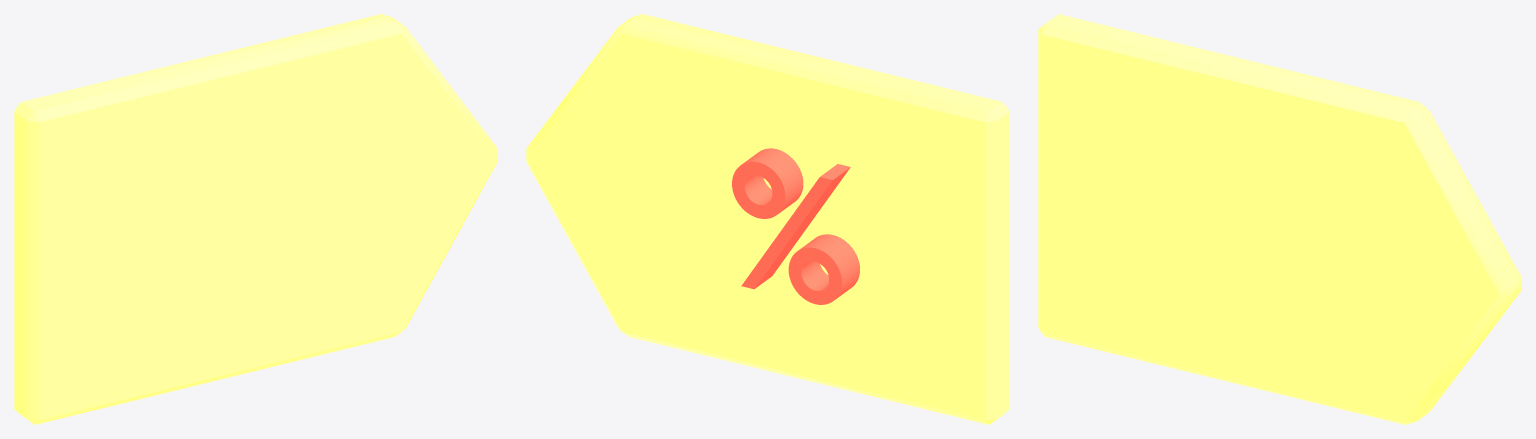
Rendered from pu_firesale.gltf.
3 renders of one model, left to right at view 1: azimuth 30°, elevation 25°; view 2: azimuth 150°, elevation 25°; view 3: azimuth 330°, elevation 25°, orthographic.
Parts seen in each view (by area): view 1: PU_firesale; view 2: PU_firesale, pct; view 3: PU_firesale.
Boxes of the visible parts, x1,y1,x2,y2 form: PU_firesale: (14, 14, 497, 424); PU_firesale: (526, 14, 1009, 424); pct: (732, 148, 859, 304); PU_firesale: (1038, 14, 1521, 424).
Bounding box in the file's own units: 0.3767 × 0.24 × 0.055.
